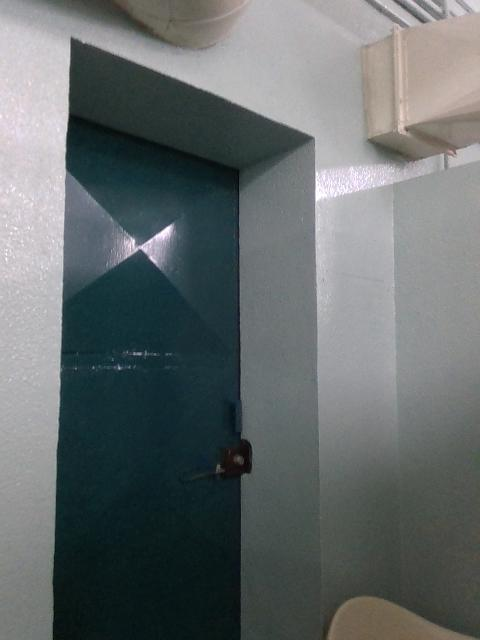closed_door: (51, 110, 239, 638)
